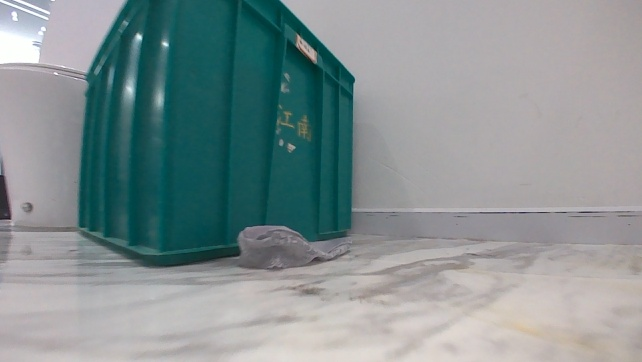socks: (232, 224, 356, 272)
toilet: (0, 58, 92, 235)
